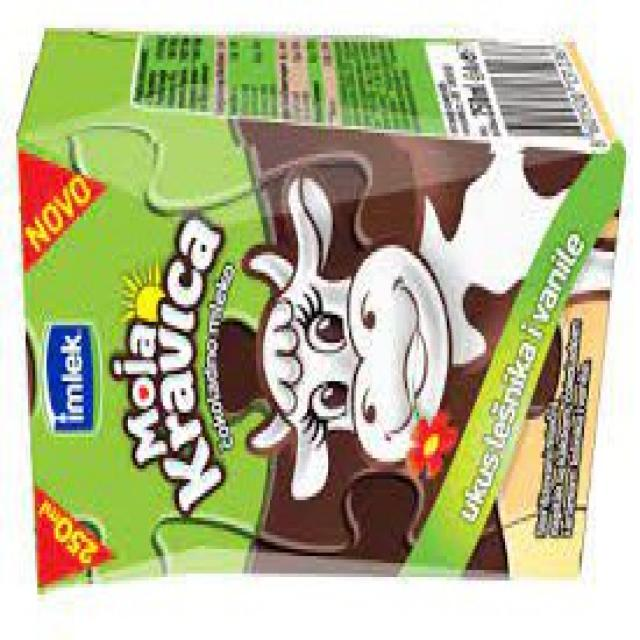non_white_jug: (12, 23, 632, 597)
